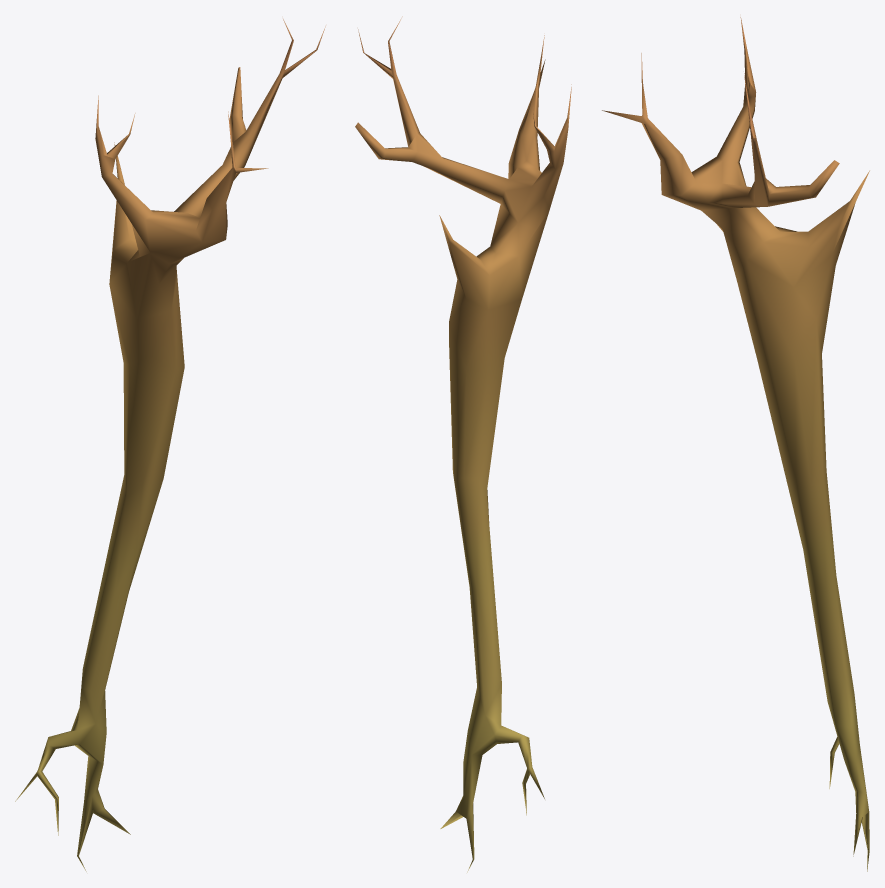
File: GuanesGuanentaRayo.fbx
3 renders of one model, left to right at view 1: azimuth 30°, elevation 25°; view 2: azimuth 150°, elevation 25°; view 3: azimuth 270°, elevation 25°, orthographic. The views are drawn at different scales.
Parts seen in each view (by area): view 1: GuanentRayo; view 2: GuanentRayo; view 3: GuanentRayo.
Boxes of the visible parts, x1,y1,x2,y2 form: GuanentRayo: (15, 19, 325, 871); GuanentRayo: (355, 16, 571, 872); GuanentRayo: (602, 17, 869, 871).
Bounding box in the file's own units: 194 × 622 × 176.
Materials: 1 (1 with a texture image).
